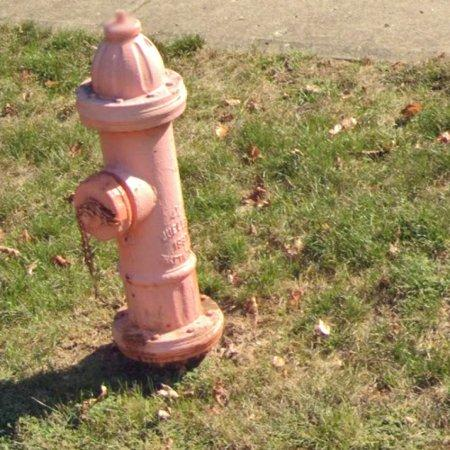a fire hydrant: (73, 10, 224, 364)
